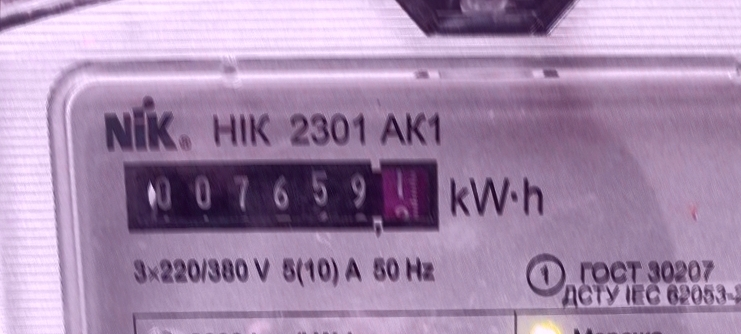0: (192, 173, 215, 210), (153, 172, 174, 212)
1: (392, 165, 408, 201)
5: (310, 169, 330, 206)
6: (270, 173, 292, 209)
7: (230, 172, 251, 211)
9: (348, 171, 369, 208)
screen: (114, 150, 450, 243)
